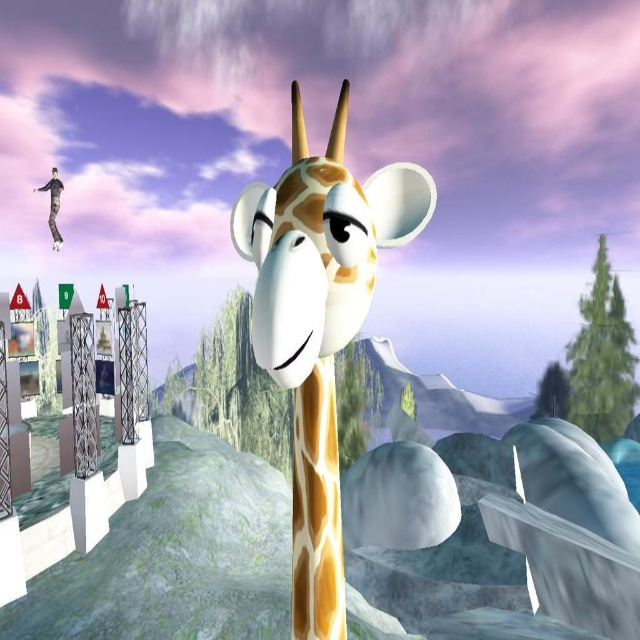Giraffe: (242, 85, 421, 623)
